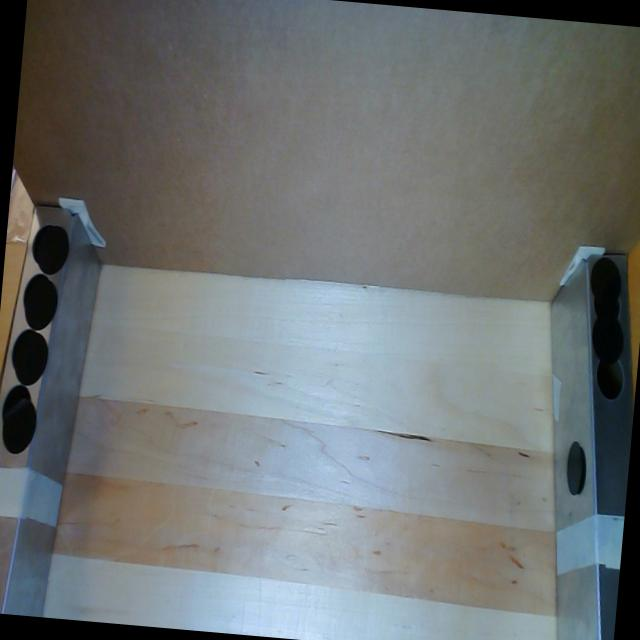Hole: (592, 354, 626, 405), (10, 330, 40, 378), (0, 384, 31, 430), (21, 272, 50, 320), (592, 284, 621, 324), (30, 223, 57, 265), (571, 446, 588, 496)
Sticker: (0, 395, 37, 454), (12, 330, 49, 388), (22, 278, 59, 332), (589, 313, 625, 364), (36, 224, 70, 276), (588, 256, 623, 304), (564, 440, 584, 496)
